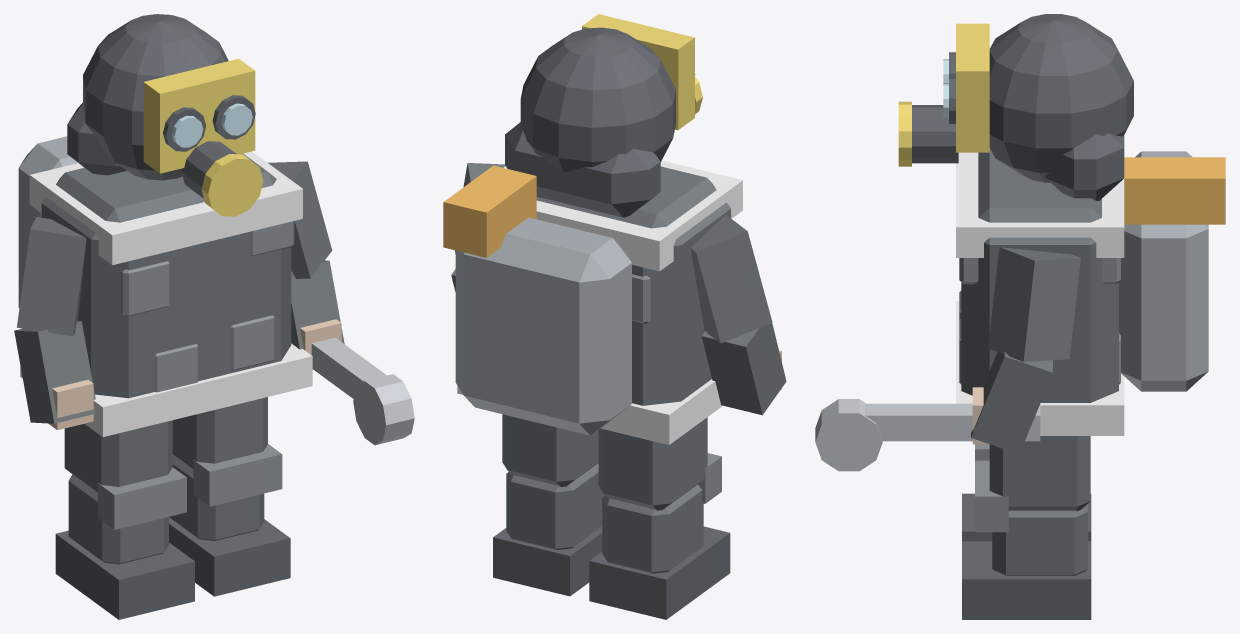
File: engineer@toxico.glb
3 views of the same model, side by side, from view 1: azimuth 30°, elevation 25°; view 2: azimuth 150°, elevation 25°; view 3: azimuth 270°, elevation 25° (orthographic). The views are drawn at different scales.
Visible parts, largest first — view 1: main, shinl, shinr, legl, legr; view 2: main, shinl, shinr, legl, legr; view 3: main, shinr, legr, shinl.
Part boxes in pixels (left/top/right/bottom): main: left=14, top=14, right=414, bottom=445; shinl: left=55, top=467, right=194, bottom=619; shinr: left=169, top=444, right=290, bottom=596; legl: left=64, top=420, right=172, bottom=492; legr: left=172, top=397, right=267, bottom=469; main: left=443, top=14, right=786, bottom=444; shinl: left=589, top=453, right=730, bottom=619; shinr: left=493, top=463, right=604, bottom=596; legl: left=598, top=417, right=707, bottom=510; legr: left=502, top=414, right=598, bottom=486; main: left=815, top=14, right=1225, bottom=471; shinr: left=962, top=460, right=1091, bottom=619; legr: left=989, top=436, right=1090, bottom=511; shinl: left=962, top=444, right=1091, bottom=541.
Size of the model in its own units: 0.331 by 0.5462 by 0.365.
